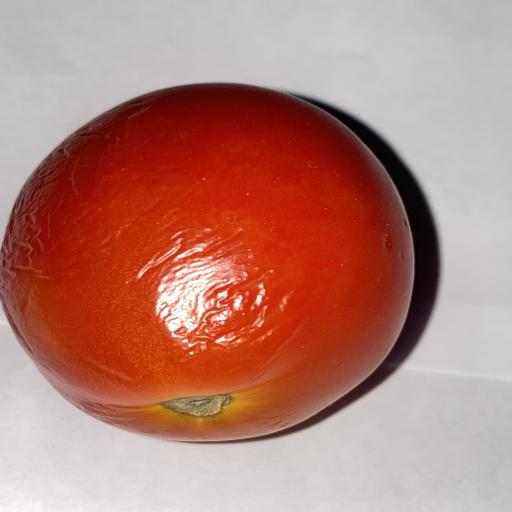spoiled: (0, 84, 414, 441)
